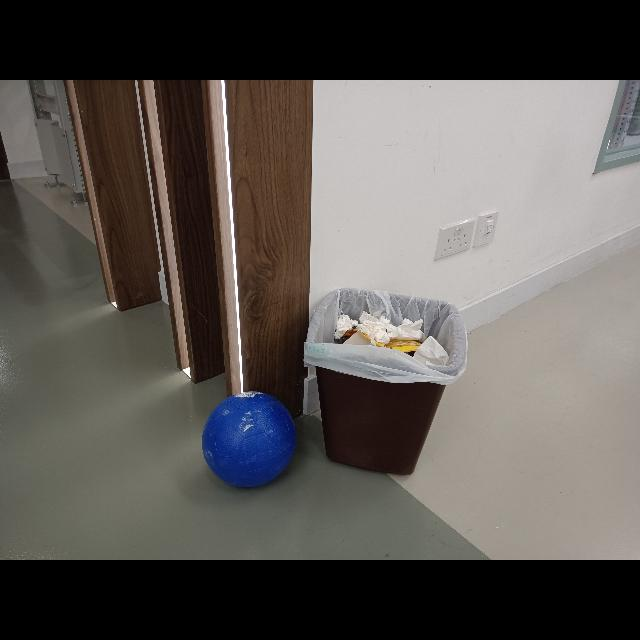B: (197, 388, 303, 492)
